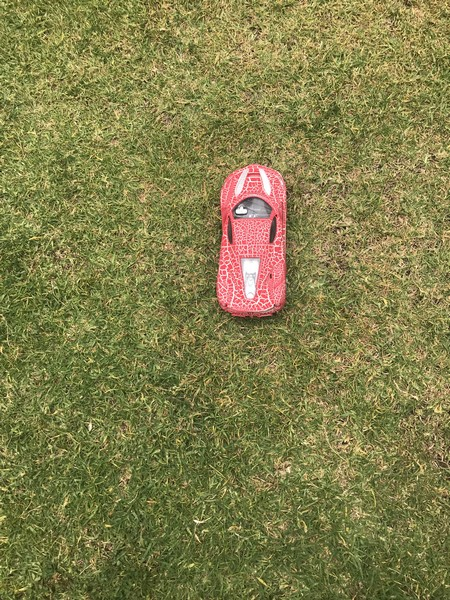RC: (216, 163, 289, 321)
